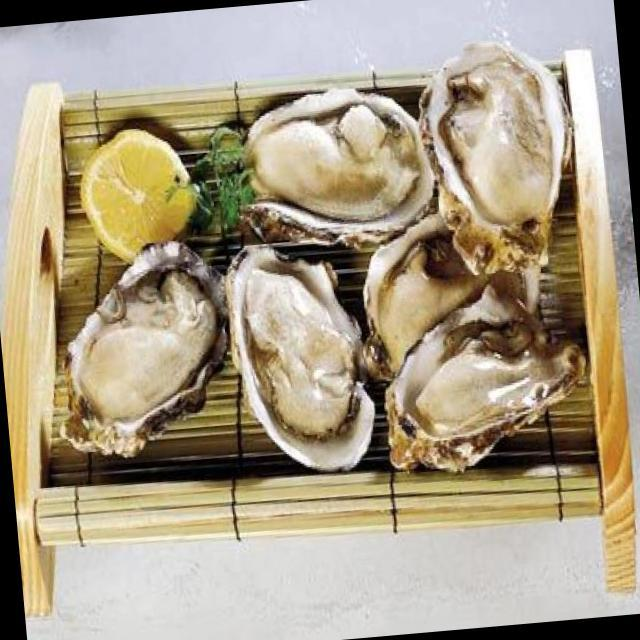Oyster-Open: (360, 270, 616, 490), (33, 215, 254, 460), (204, 61, 452, 265), (414, 14, 596, 275), (212, 236, 381, 486), (344, 190, 504, 392)
